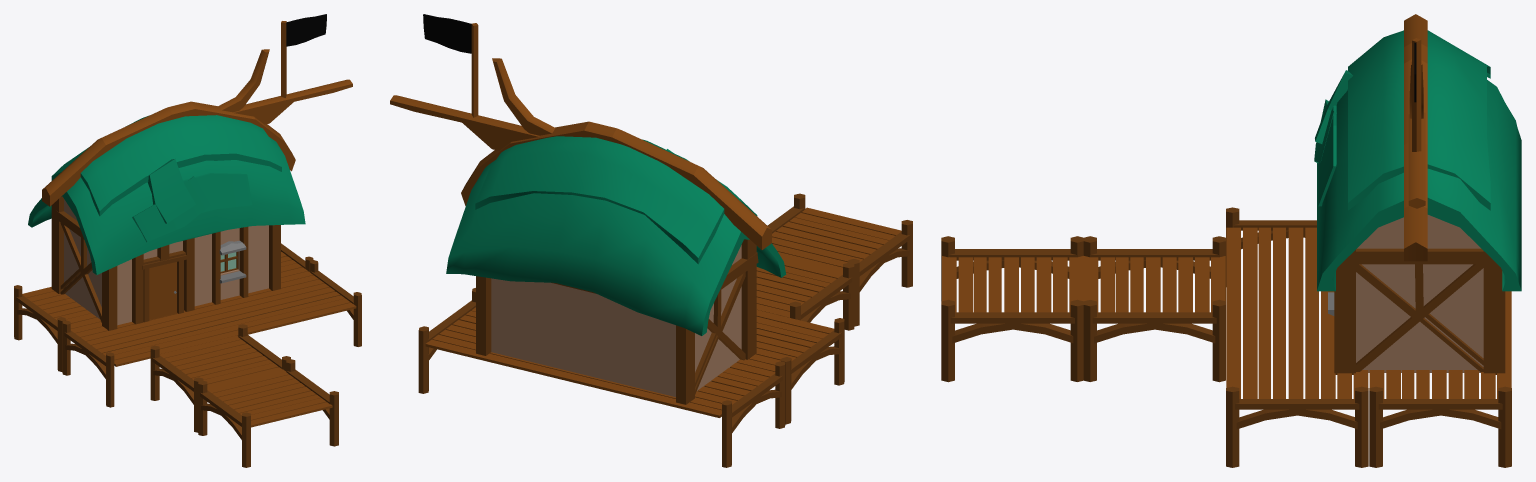
Rendered from Mesh_PIrate_House_Harbour.fbx.
The picture shows the model from 3 angles, left to right: view 1: azimuth 30°, elevation 25°; view 2: azimuth 150°, elevation 25°; view 3: azimuth 270°, elevation 25°; orthographic projection. The views are drawn at different scales.
Visible parts, largest first — view 1: PIrate_House_Harbour; view 2: PIrate_House_Harbour; view 3: PIrate_House_Harbour.
Part boxes in pixels (bbox=[...]): PIrate_House_Harbour: bbox=[14, 14, 361, 467]; PIrate_House_Harbour: bbox=[390, 14, 912, 467]; PIrate_House_Harbour: bbox=[941, 14, 1521, 467].
Bounding box in the file's own units: 1348 × 1183 × 1493.
Materials: 1 (1 with a texture image).
